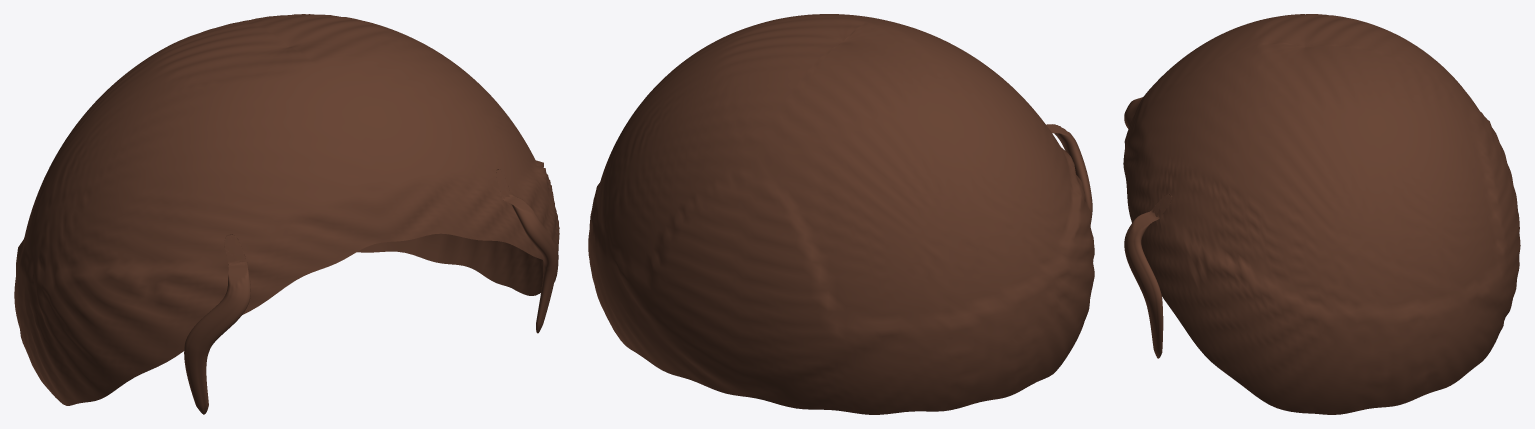
Rendered from Feminine-twin-braids-cap251-hair.glb.
3 views of the same model, side by side, from view 1: azimuth 30°, elevation 25°; view 2: azimuth 150°, elevation 25°; view 3: azimuth 270°, elevation 25° (orthographic). The views are drawn at different scales.
Parts seen in each view (by area): view 1: 226 hair / Hair / chestnut226.002; view 2: 226 hair / Hair / chestnut226.002; view 3: 226 hair / Hair / chestnut226.002.
Boxes of the visible parts, box(x1,y1,x2,y2) form: 226 hair / Hair / chestnut226.002: box(14, 14, 559, 414); 226 hair / Hair / chestnut226.002: box(588, 14, 1094, 414); 226 hair / Hair / chestnut226.002: box(1123, 14, 1520, 414).
Size of the model in its own units: 0.9981 by 0.5988 by 0.7846.
